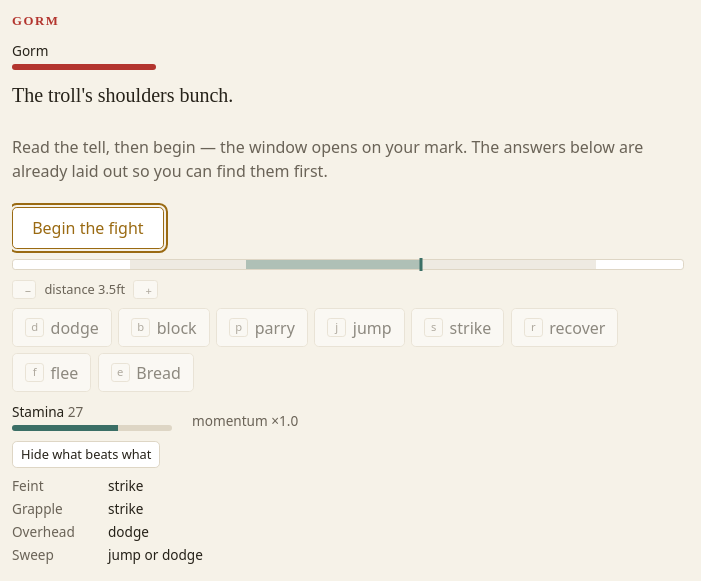
Test case: the window › counts down in numbers for a reader who asked for less motion
What coordinates should you click on to do the following:
click the button "Begin the fight"
I would click on:
 (88, 228)
Its box is [12, 207, 164, 249].
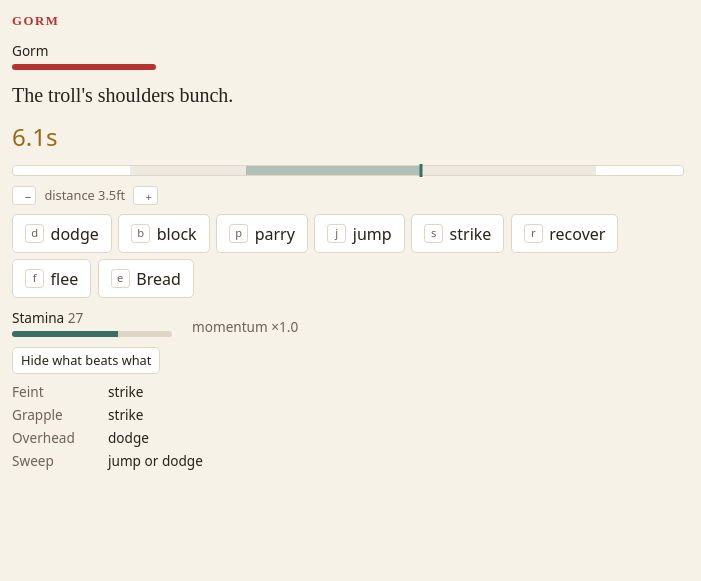
expect the text "6.1s" is shown: met, box [12, 120, 57, 153]
